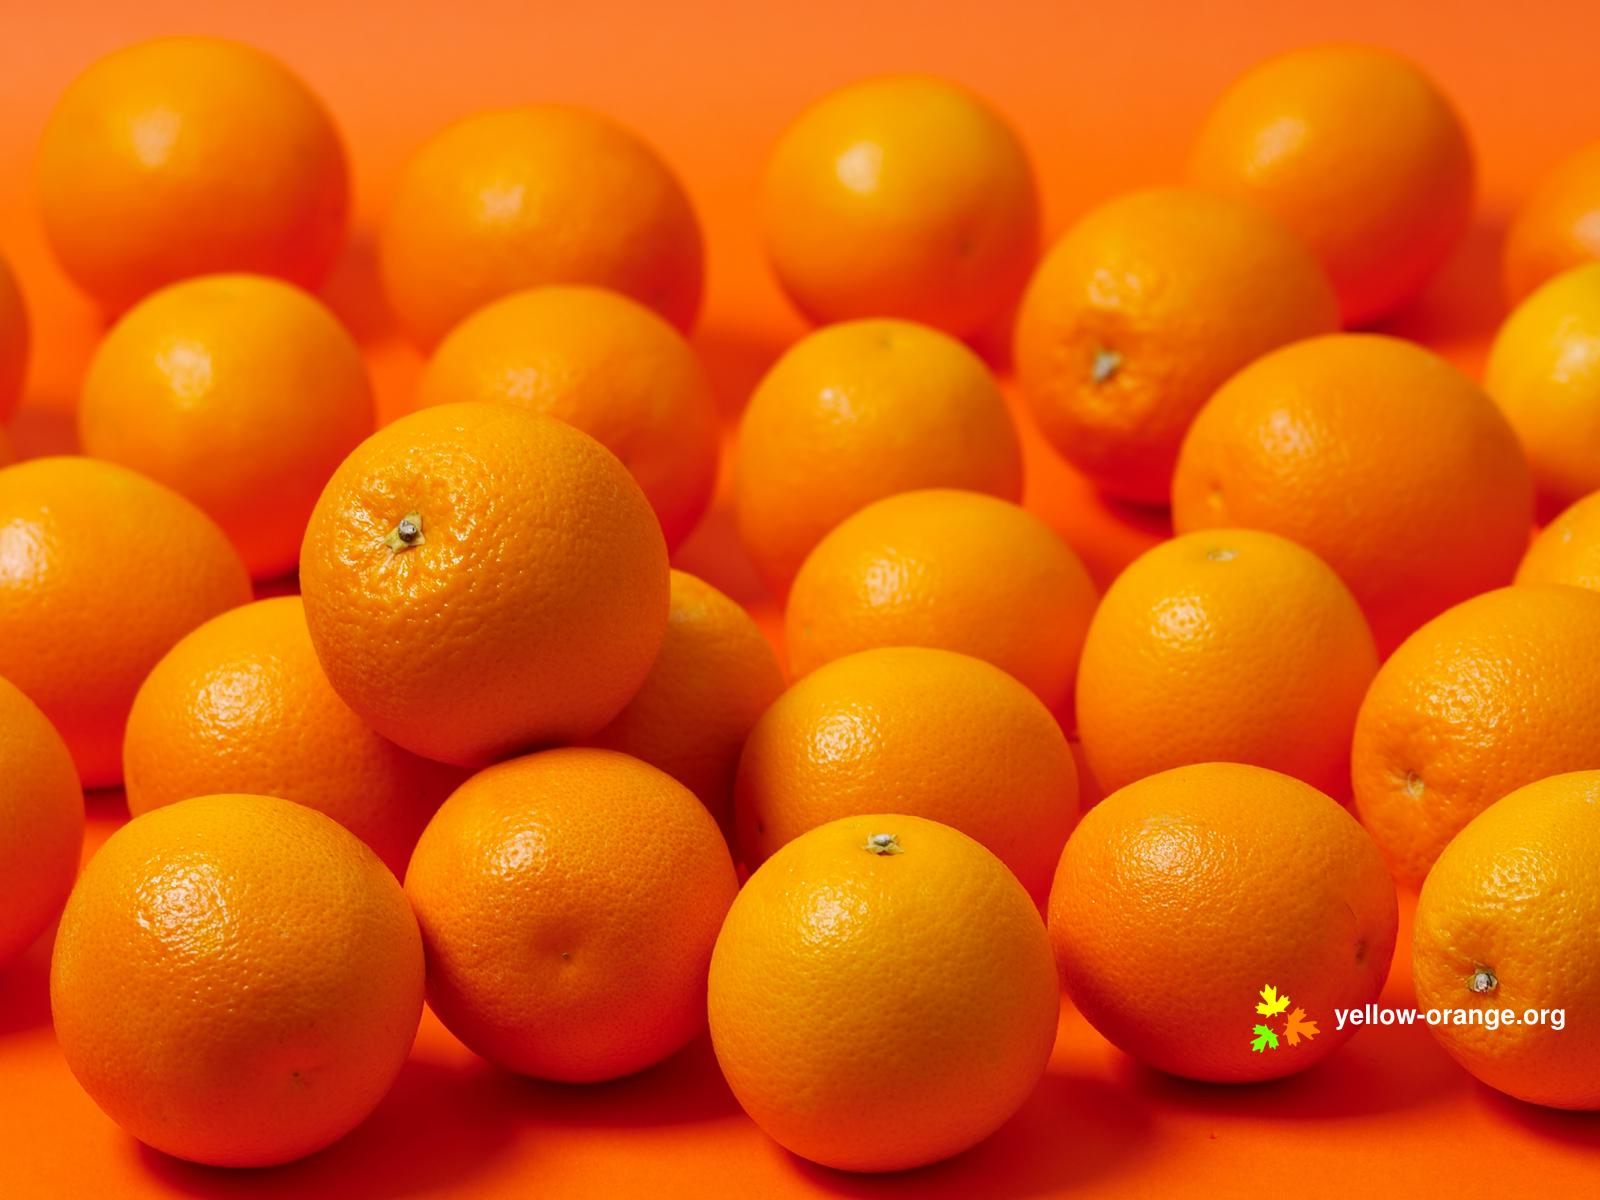orange: (290, 388, 675, 764), (44, 802, 433, 1170), (1058, 746, 1417, 1126), (710, 814, 1080, 1180), (392, 734, 730, 1128), (1140, 326, 1560, 601), (1006, 182, 1306, 488), (54, 36, 366, 302), (1084, 524, 1348, 798), (736, 648, 1069, 824), (784, 494, 1097, 658)
